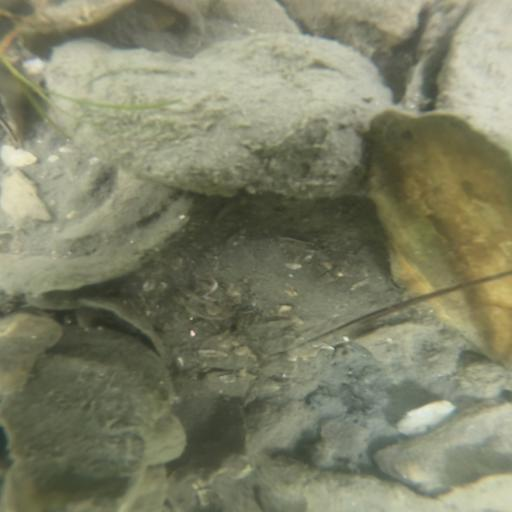Oyster-Closed: (40, 33, 396, 201), (362, 109, 512, 375), (9, 354, 159, 483), (377, 398, 512, 499), (259, 456, 472, 512), (435, 2, 512, 156), (280, 1, 439, 57)
Oyster-Open: (60, 302, 170, 372)
